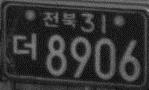0: (93, 36, 116, 80)
1: (98, 12, 107, 35)
3: (78, 11, 95, 33)
6: (116, 38, 141, 82)
8: (46, 33, 68, 78)
9: (68, 35, 91, 79)
더: (11, 30, 37, 62)
전북_O: (41, 10, 76, 29)
